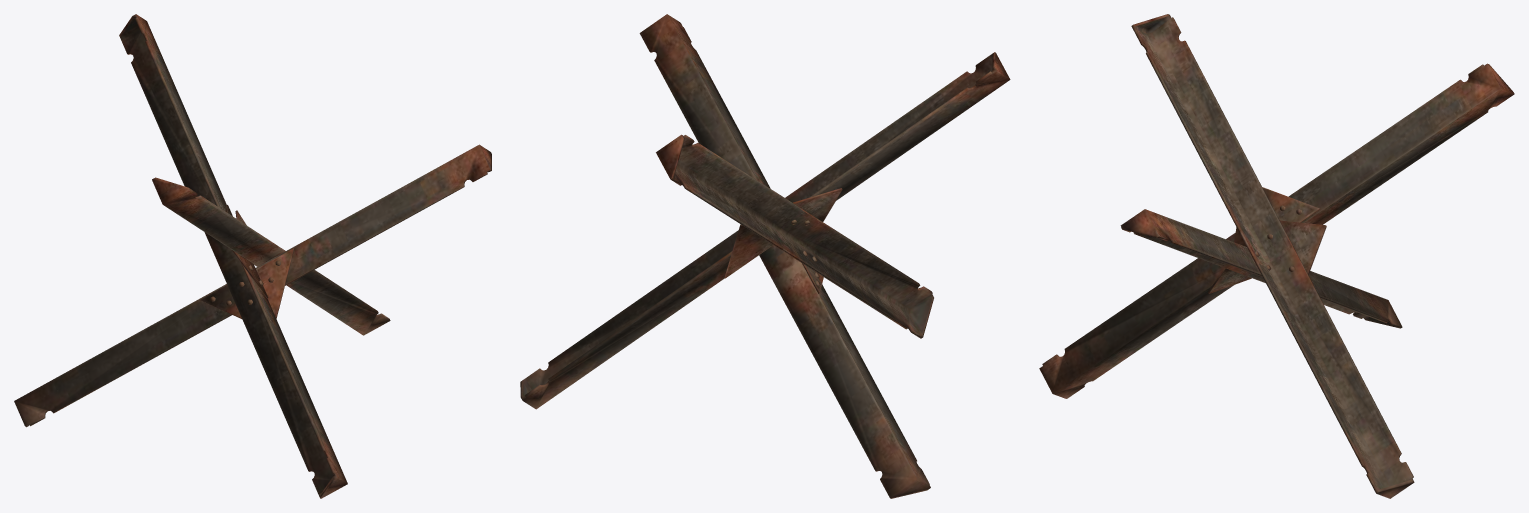
File: a29_hedgehog.glb
3 renders of one model, left to right at view 1: azimuth 30°, elevation 25°; view 2: azimuth 150°, elevation 25°; view 3: azimuth 270°, elevation 25°, orthographic. The views are drawn at different scales.
Parts seen in each view (by area): view 1: body; view 2: body; view 3: body.
Boxes of the visible parts, x1,y1,x2,y2 form: body: (14, 14, 491, 498); body: (520, 14, 1010, 498); body: (1039, 14, 1514, 498).
Bounding box in the file's own units: 0.9359 × 0.7999 × 1.
1 material, 1 textured.
